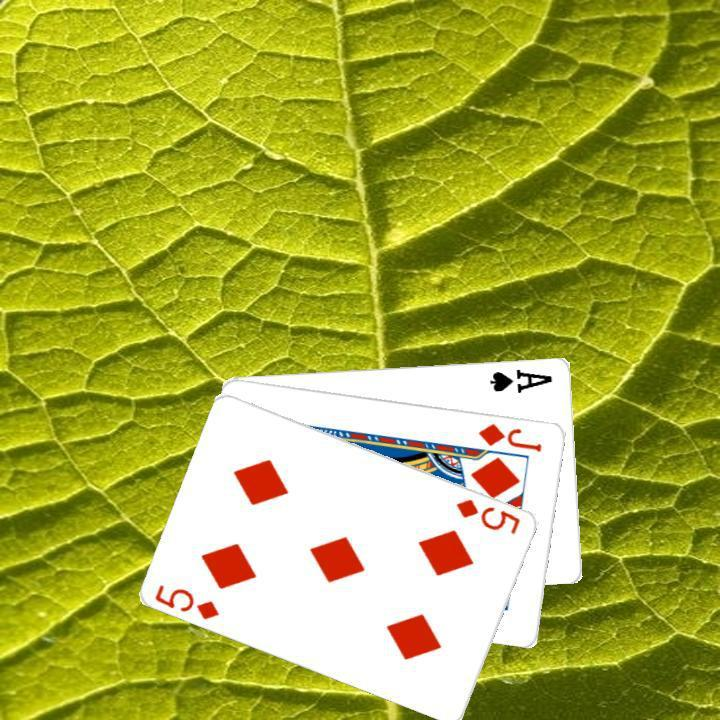5: (452, 494, 523, 536), (151, 580, 222, 622)
A: (486, 363, 555, 395)
J: (474, 418, 544, 454)
